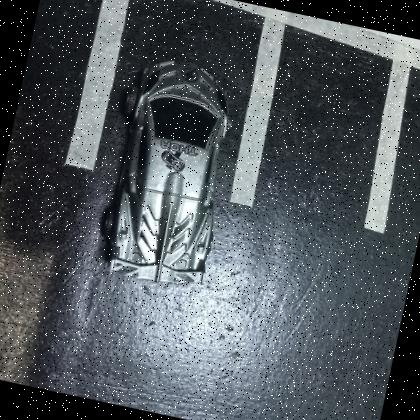Car: (102, 61, 229, 284)
